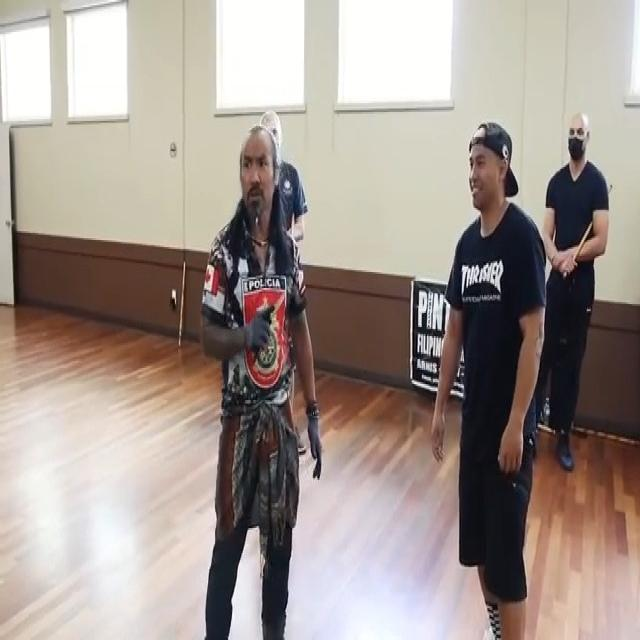Sharp-Object: (248, 290, 286, 364)
